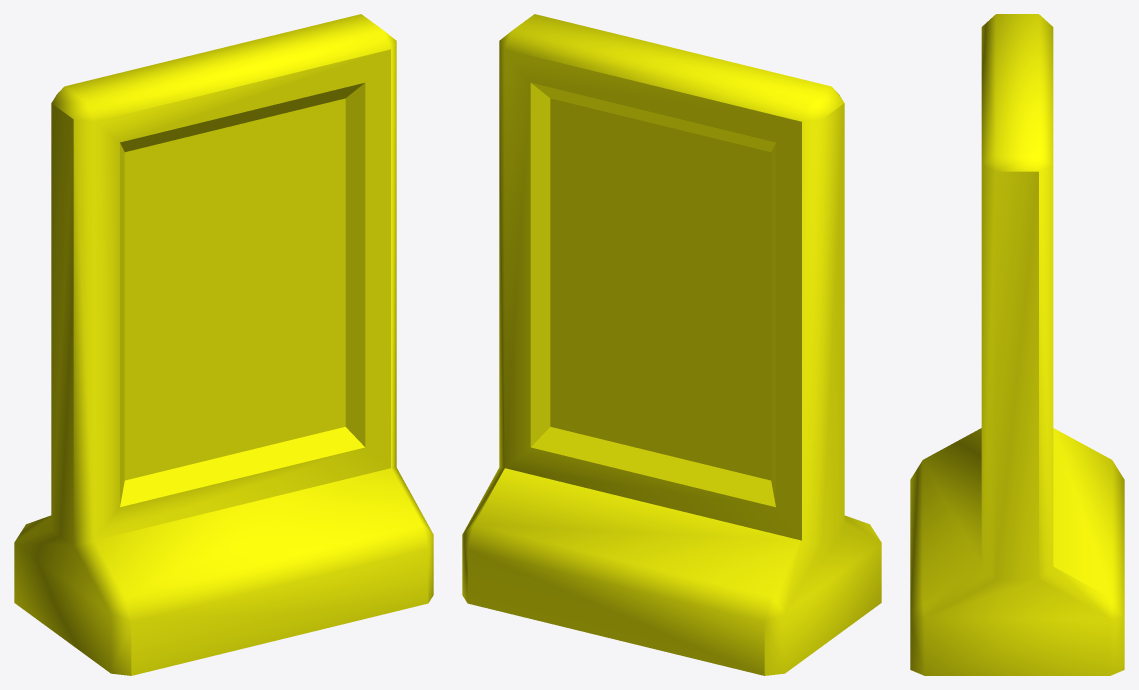
Rendered from menu.gltf.
3 renders of one model, left to right at view 1: azimuth 30°, elevation 25°; view 2: azimuth 150°, elevation 25°; view 3: azimuth 270°, elevation 25°, orthographic. The views are drawn at different scales.
Parts seen in each view (by area): view 1: menu; view 2: menu; view 3: menu.
Boxes of the visible parts, box(x1,y1,x2,y2) form: menu: box(14, 14, 433, 675); menu: box(462, 14, 881, 675); menu: box(910, 14, 1124, 675).
Size of the model in its own units: 0.5 by 0.8 by 0.3.
Materials: 1 (1 with a texture image).
